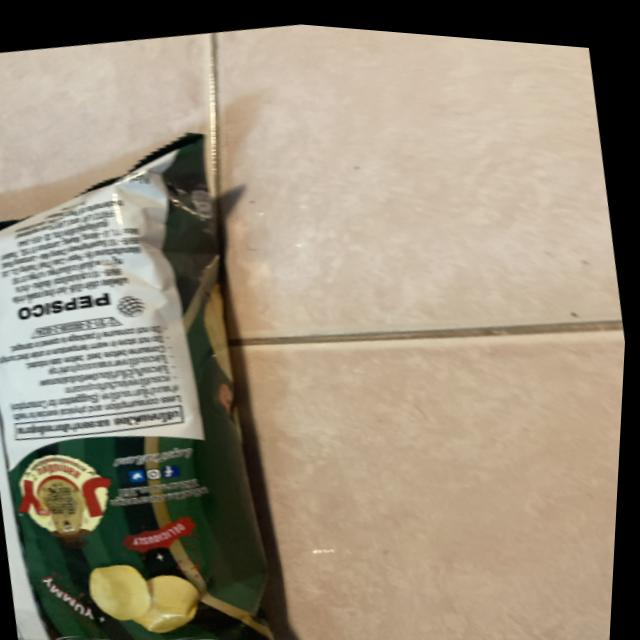Laygreen: (0, 83, 349, 640)
